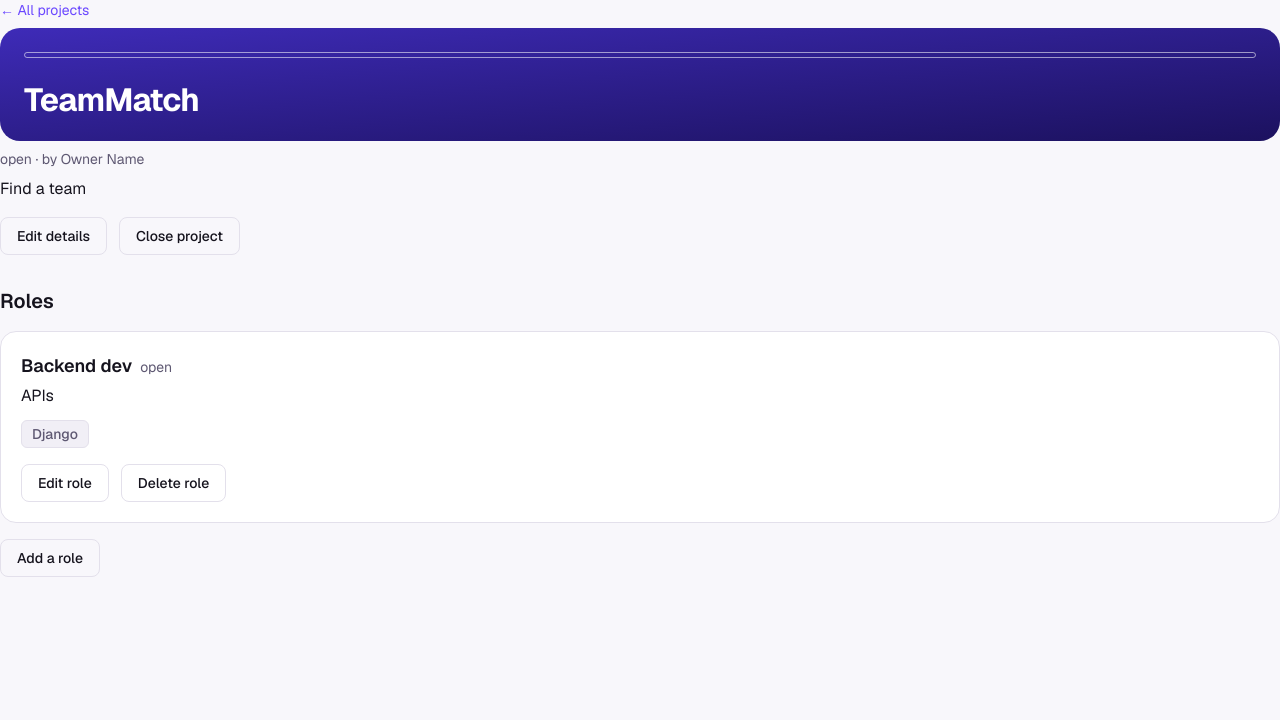
it: closes a project after the owner confirms
The width and height of the screenshot is (1280, 720).
Click the button "Close project" at (179, 236), box [119,217,240,255]
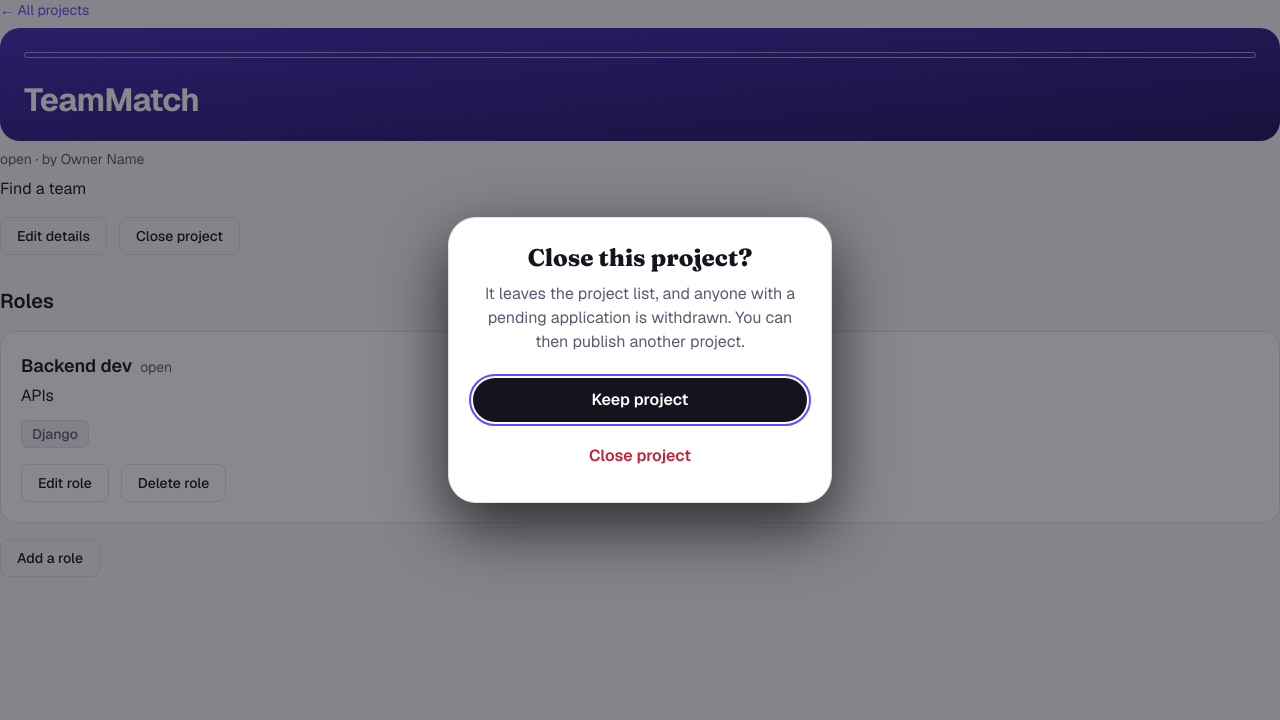
Click the button "Close project" at (640, 456), box [569,434,711,478]
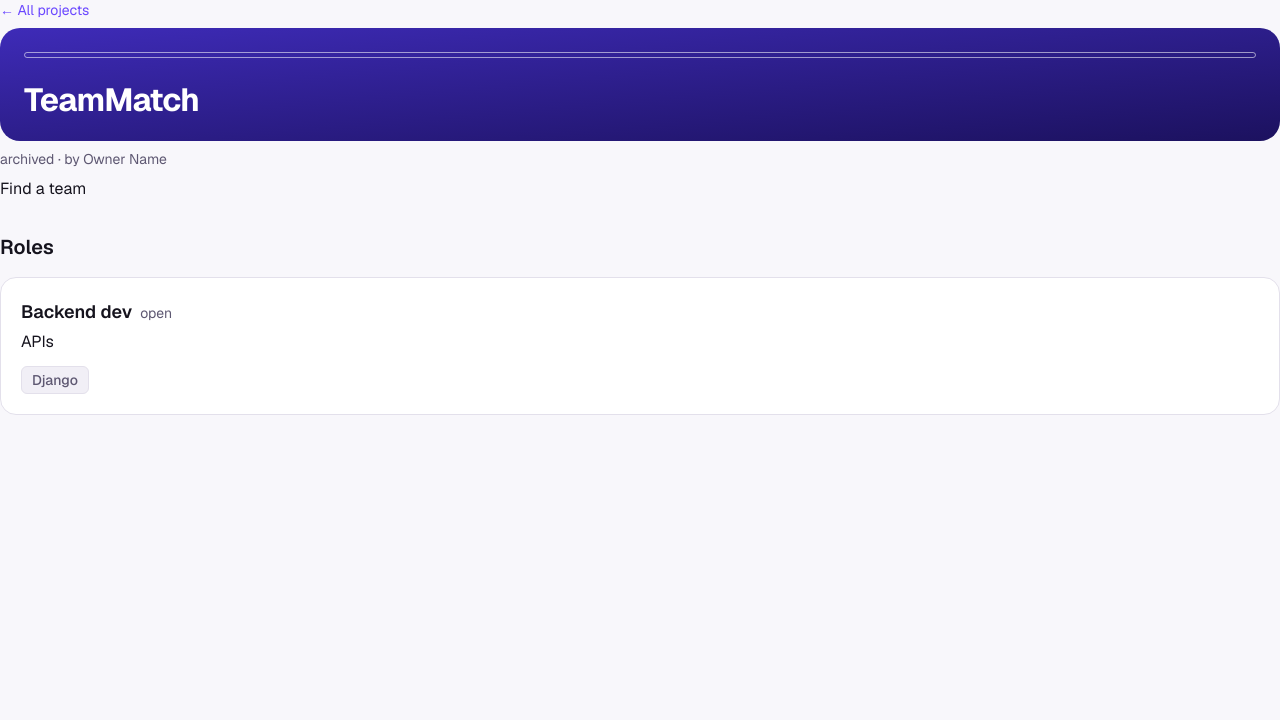
expect the button "Edit details" is gone: met
